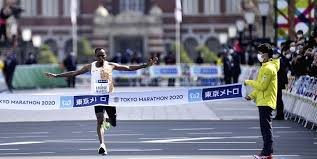Good: (43, 41, 278, 159)
